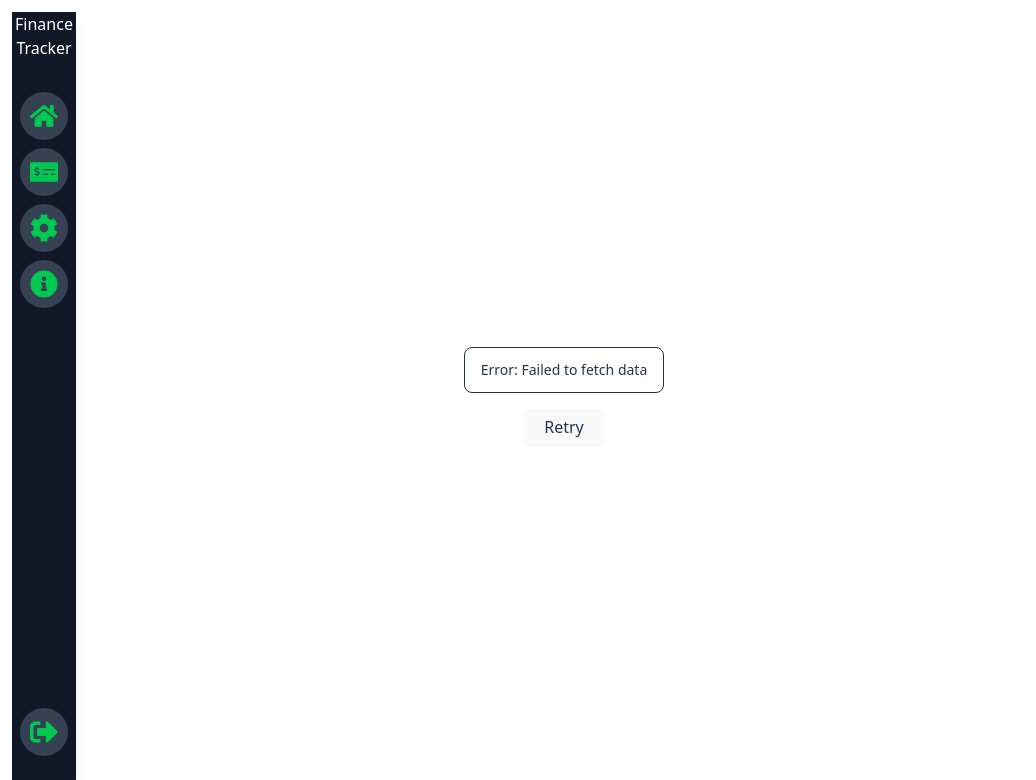
Dashboard Component › Error State › allows retrying data fetch on error
This screenshot has width=1036, height=780.
Expected: the text "Error: Failed to fetch data" is shown, left=481, top=360, right=647, bottom=380
Click the button "Retry". click: (564, 427)
box: left=524, top=409, right=604, bottom=445
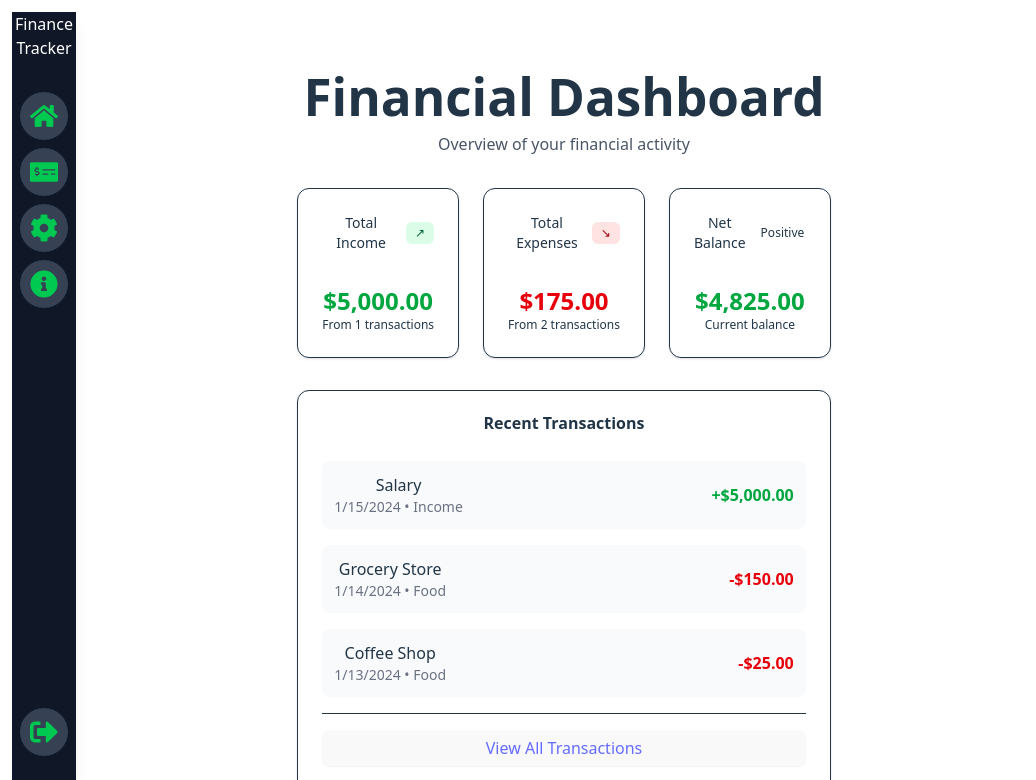
Now the heading "Financial Dashboard" is shown, box left=297, top=68, right=831, bottom=124
